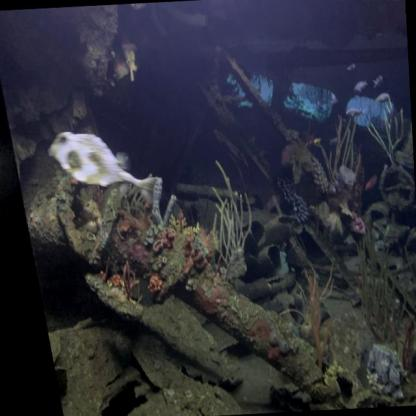fish: (45, 124, 164, 216), (354, 78, 369, 95), (345, 107, 365, 119), (374, 92, 390, 105), (372, 74, 386, 88), (347, 63, 357, 72)
